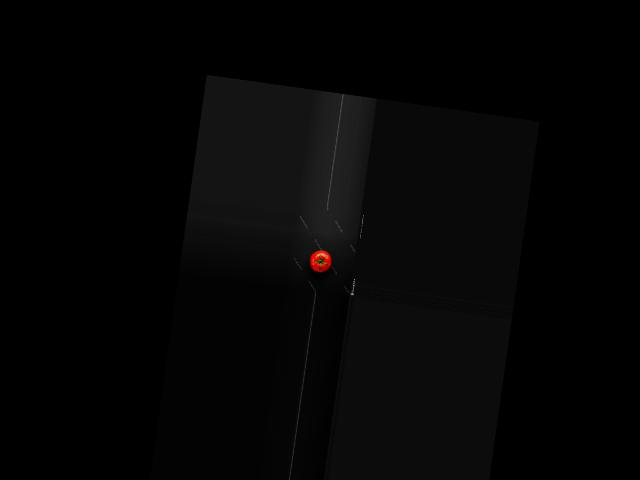tomato: (308, 248, 333, 273)
